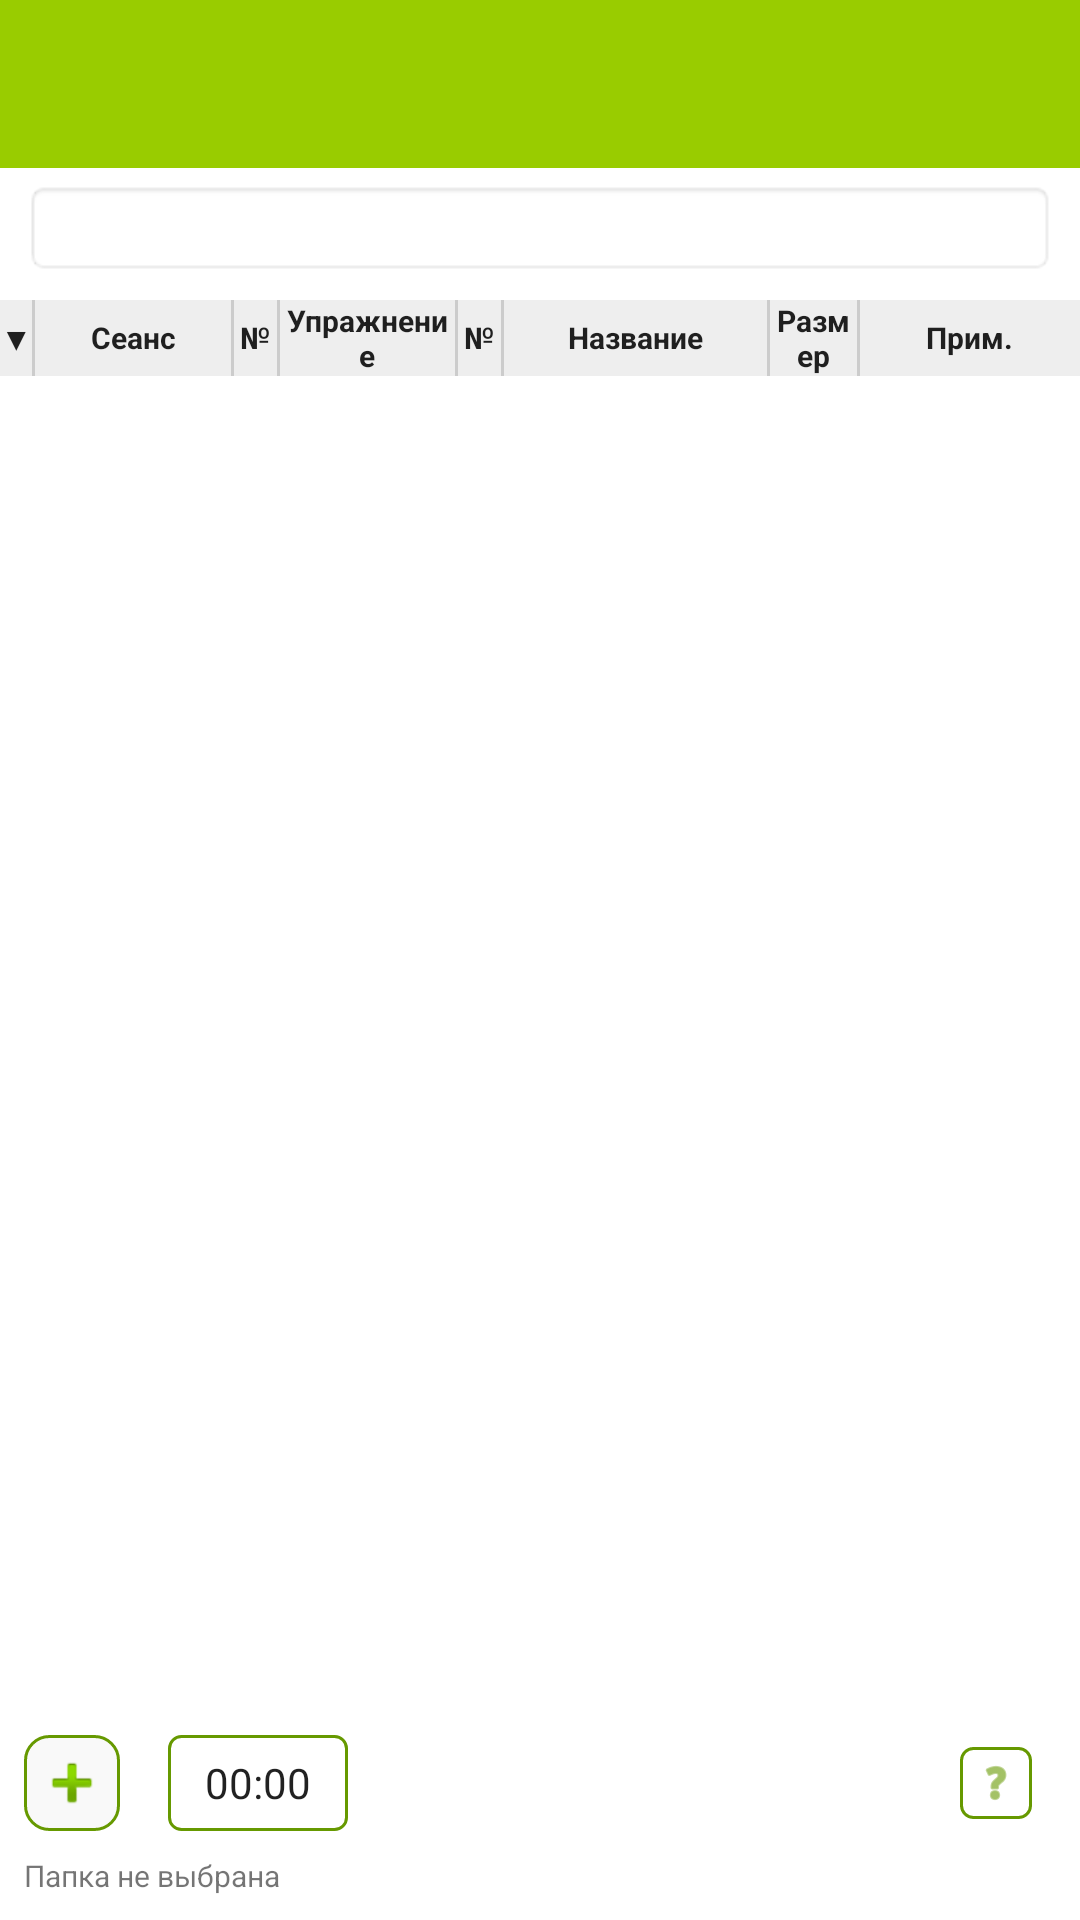

Where to tap for icons on this 1080*1920 app screen, as [x,y]:
Добавить папку: [72,1783]
Справка: [996,1783]
